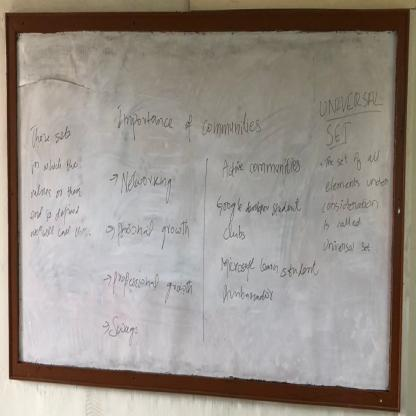Handwritten text: (115, 97, 263, 149), (214, 252, 319, 287), (112, 263, 193, 308), (222, 145, 302, 184), (213, 185, 302, 220), (115, 213, 193, 250), (119, 162, 175, 206), (318, 85, 383, 120), (220, 278, 274, 313), (322, 171, 390, 195), (27, 119, 74, 152), (108, 309, 141, 356), (319, 234, 374, 262), (28, 179, 84, 206), (324, 149, 383, 174), (29, 222, 94, 244), (27, 151, 79, 178), (318, 196, 381, 215), (30, 204, 82, 226), (323, 115, 353, 149), (221, 219, 251, 247), (321, 216, 362, 234)
Whiteboard: (7, 22, 400, 395)
